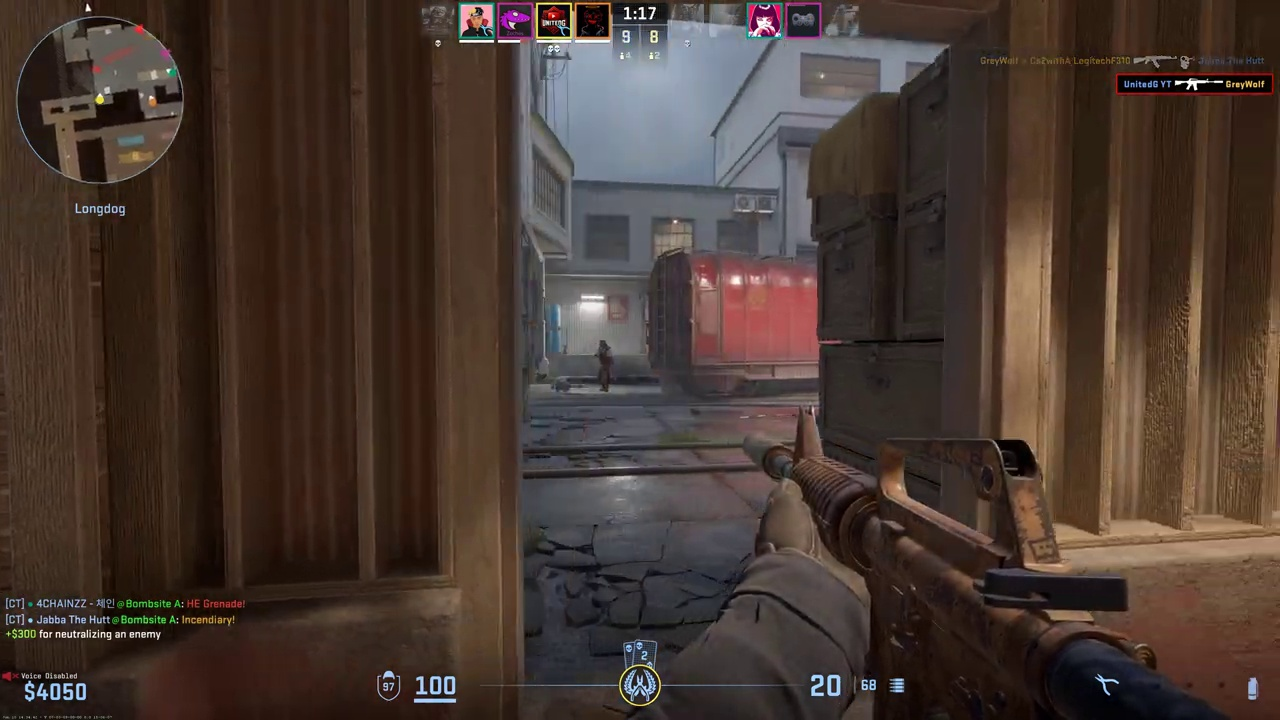Terrorist: (594, 339, 614, 391)
